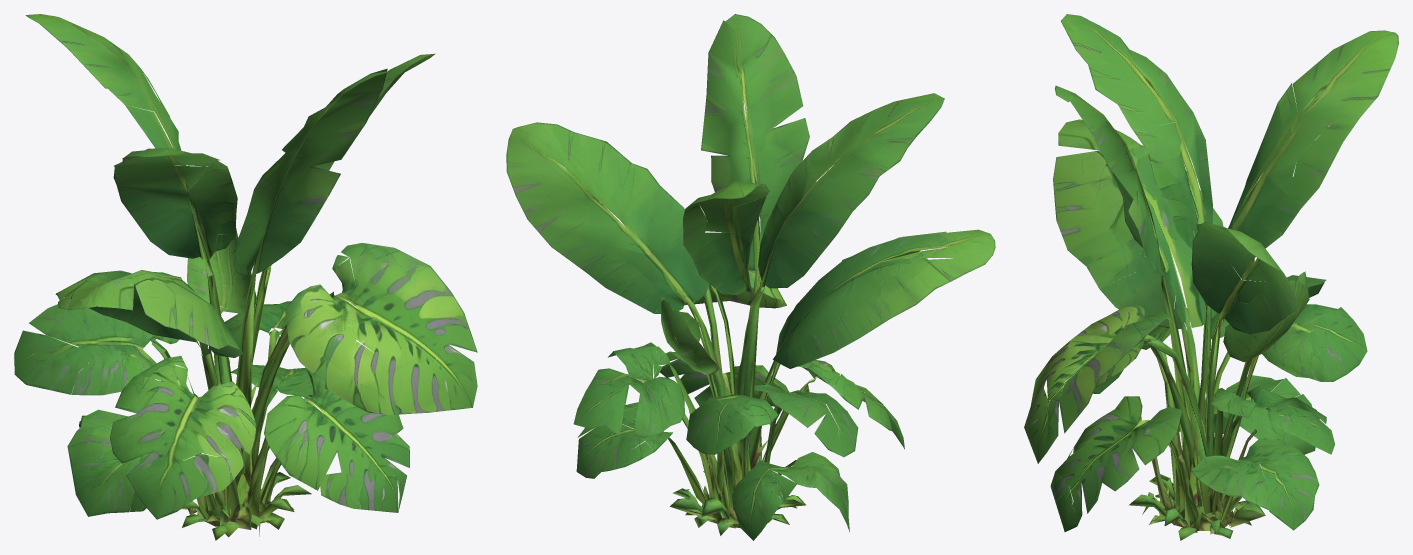
The model's file is Leaves.fbx.
3 views of the same model, side by side, from view 1: azimuth 30°, elevation 25°; view 2: azimuth 150°, elevation 25°; view 3: azimuth 270°, elevation 25° (orthographic). The views are drawn at different scales.
Parts seen in each view (by area): view 1: Leaves; view 2: Leaves; view 3: Leaves.
Boxes of the visible parts, <box> form: Leaves: <box>14,14,477,540</box>; Leaves: <box>506,14,995,540</box>; Leaves: <box>1024,14,1398,540</box>.
Bounding box in the file's own units: 2.16 × 2.2 × 1.62.
Materials: 1 (1 with a texture image).
